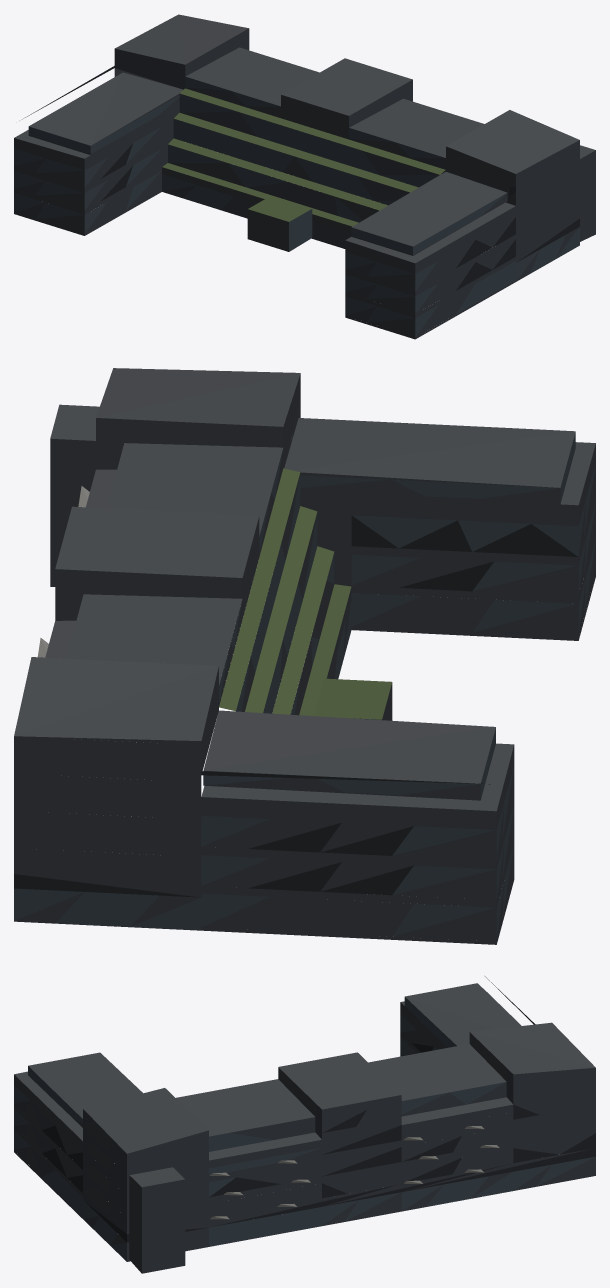
The model's file is de-valerius.lod2.glb.
The picture shows the model from 3 angles, top to bottom: view 1: azimuth 30°, elevation 25°; view 2: azimuth 150°, elevation 25°; view 3: azimuth 270°, elevation 25°; orthographic projection. The views are drawn at different scales.
Visible parts, largest first — view 1: lod2; view 2: lod2; view 3: lod2.
Part boxes in pixels (left/top/right/bottom): lod2: left=14, top=14, right=595, bottom=339; lod2: left=14, top=368, right=595, bottom=944; lod2: left=14, top=976, right=595, bottom=1273.
Size of the model in its own units: 73.71 by 19.3 by 87.29.
